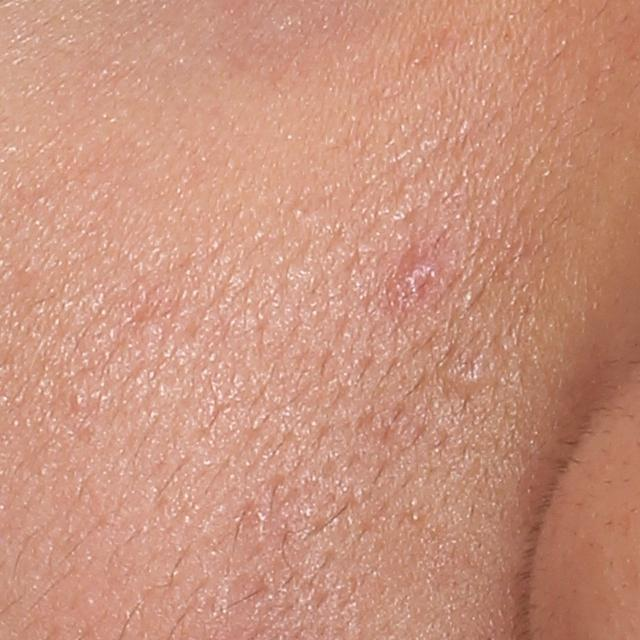comedo: (451, 362, 492, 399)
papule: (395, 250, 448, 298)
